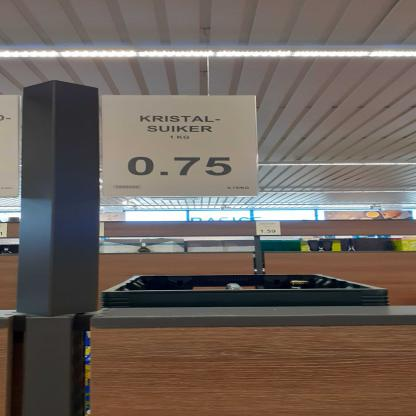prtg: (103, 95, 259, 198)
